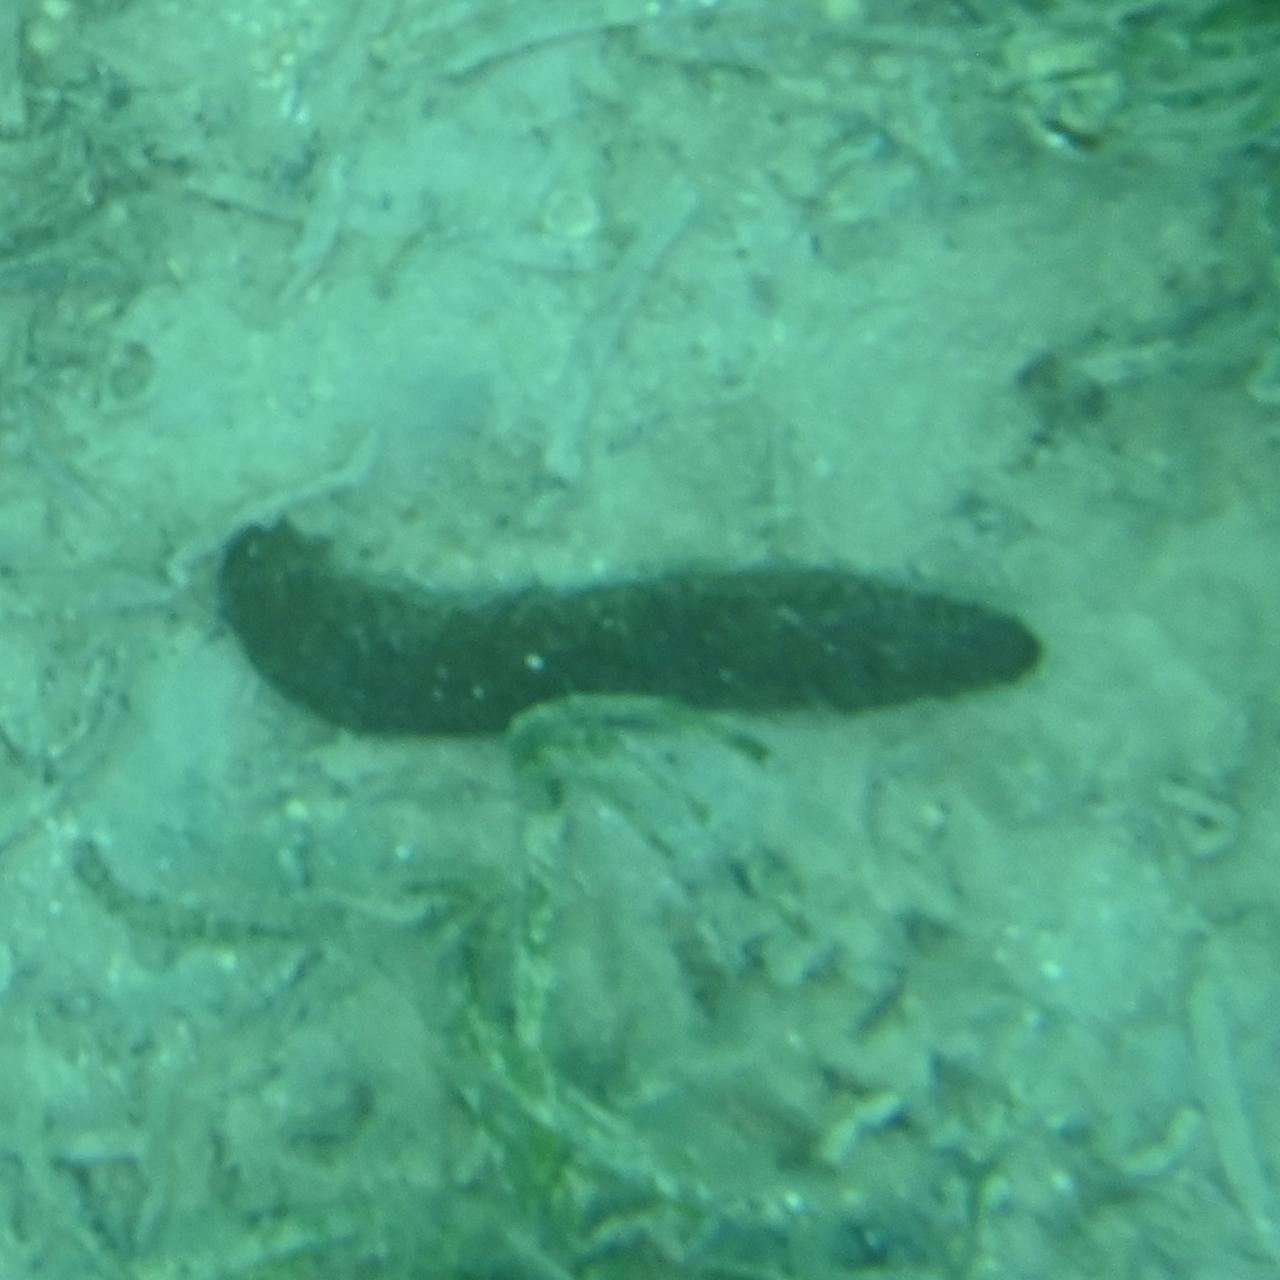Holothuria tubulosa: (232, 516, 1048, 764)
